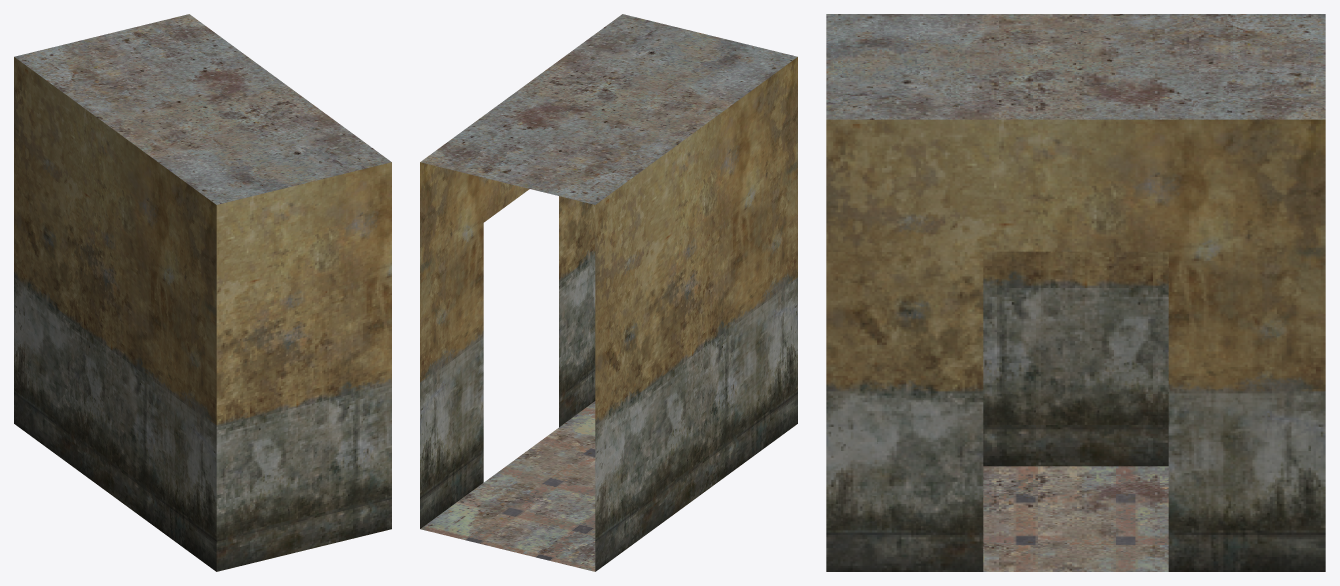
The model's file is _Corridor_part26.FBX.
3 renders of one model, left to right at view 1: azimuth 30°, elevation 25°; view 2: azimuth 150°, elevation 25°; view 3: azimuth 270°, elevation 25°, orthographic. The views are drawn at different scales.
Parts seen in each view (by area): view 1: Corridor_Part026; view 2: Corridor_Part026; view 3: Corridor_Part026.
Boxes of the visible parts, bbox=[...] form: Corridor_Part026: bbox=[14, 14, 391, 571]; Corridor_Part026: bbox=[420, 14, 797, 571]; Corridor_Part026: bbox=[826, 14, 1325, 571].
Size of the model in its own units: 127 by 254 by 254.
Materials: 3 (3 with a texture image).
